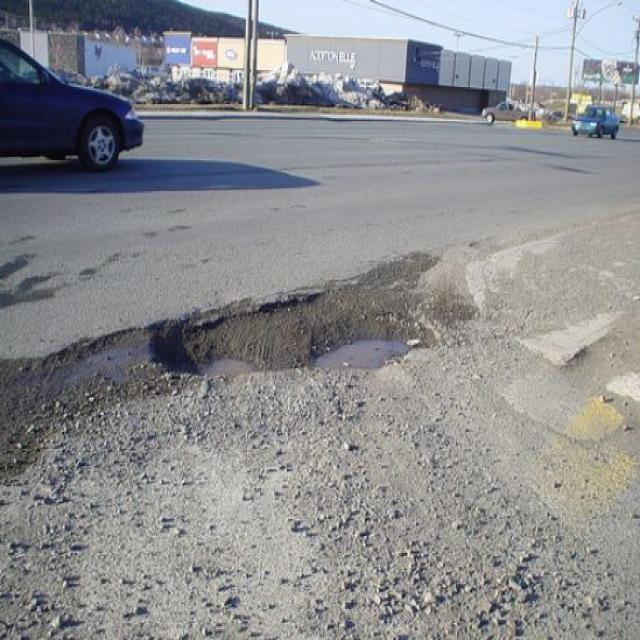pothole: (152, 292, 306, 380), (300, 317, 422, 379)
